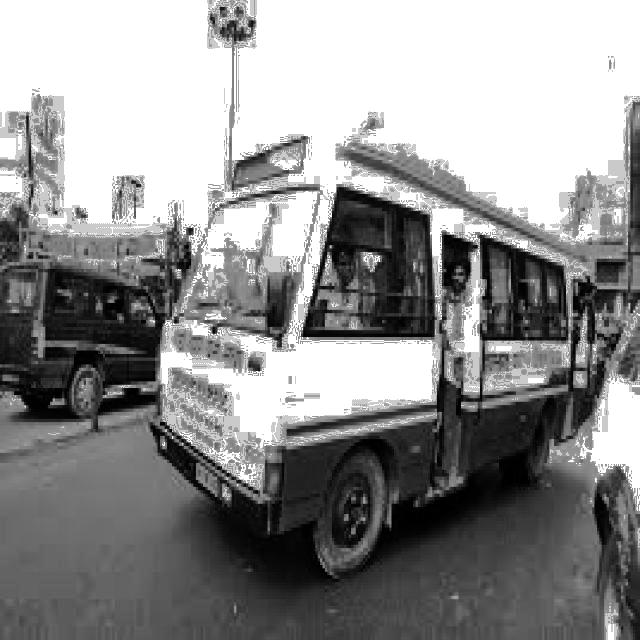Bus: (134, 116, 620, 567)
